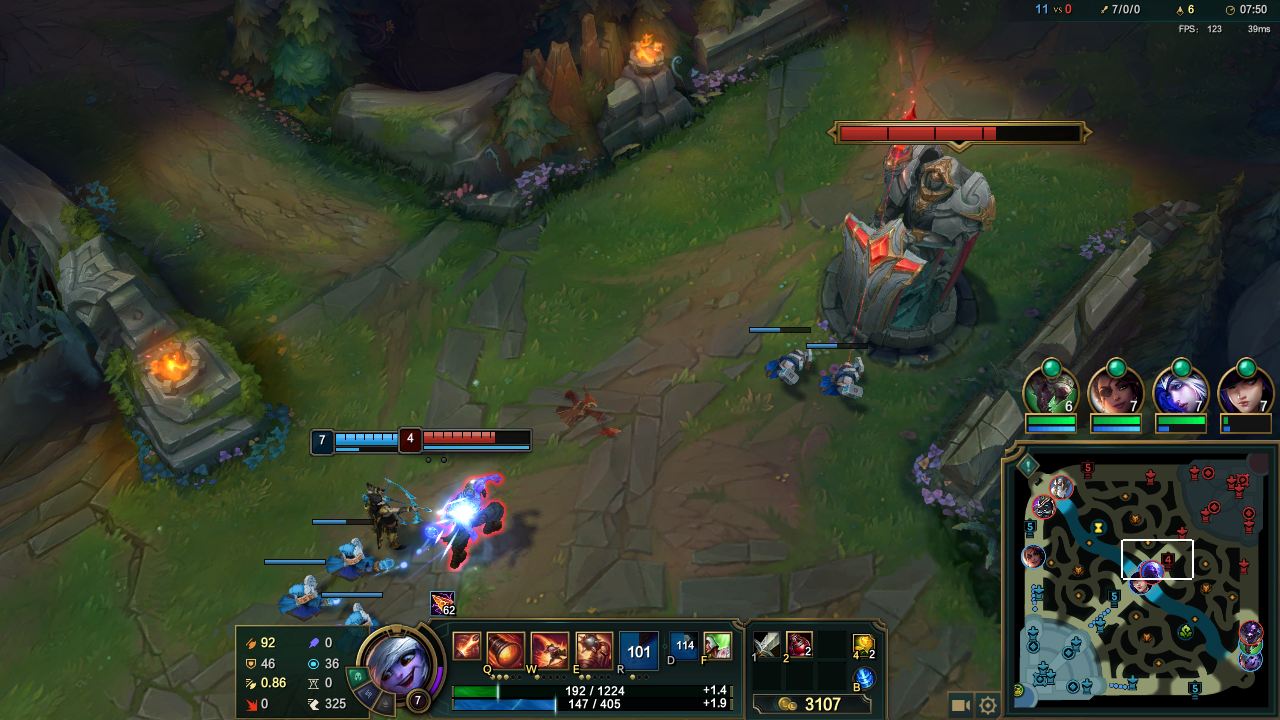DFFYT: (815, 121, 984, 358)
DFYX: (421, 435, 513, 455)
WFXB: (323, 542, 391, 580), (822, 355, 871, 406), (282, 578, 338, 616), (766, 341, 812, 387), (343, 601, 376, 625)
Yita: (1187, 676, 1204, 700)
